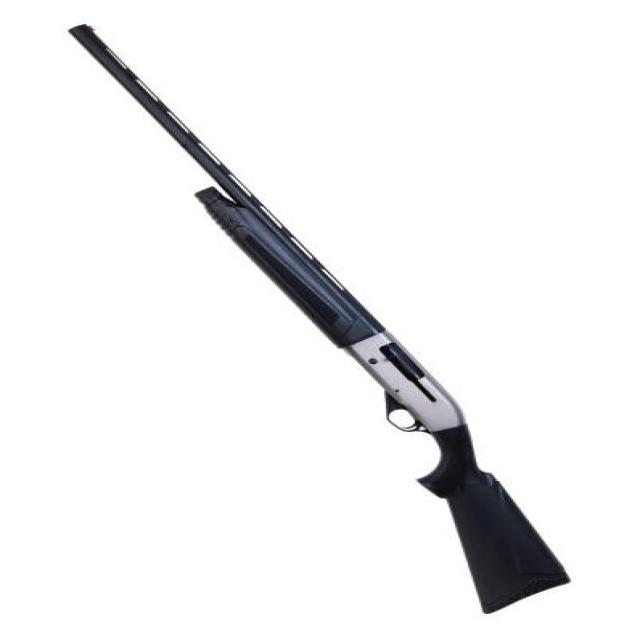rifle: (61, 14, 589, 622)
